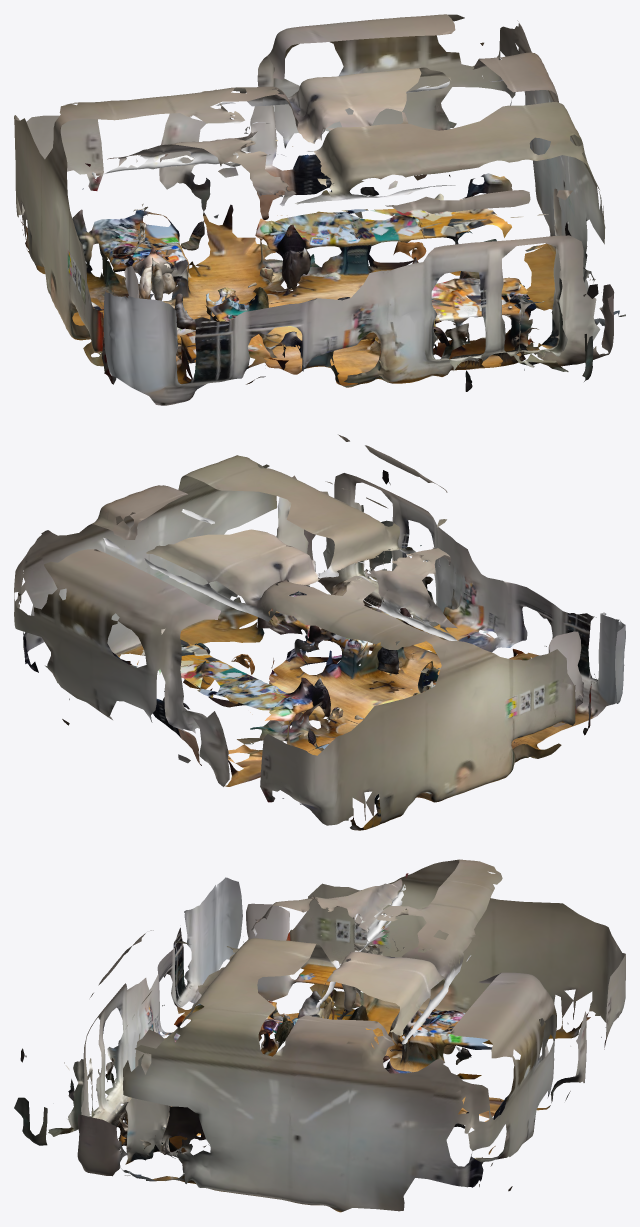
The model's file is Modelar-2022-Dec-15.obj.
3 renders of one model, top to bottom at view 1: azimuth 30°, elevation 25°; view 2: azimuth 150°, elevation 25°; view 3: azimuth 270°, elevation 25°, orthographic. The views are drawn at different scales.
Visible parts, largest first — view 1: object 1, _1, _2, _3; view 2: object 1, _1, _2, _3; view 3: object 1, _1, _2, _3.
Boxes of the visible parts, bbox=[...] form: object 1: bbox=[14, 14, 625, 405]; _1: bbox=[26, 24, 614, 384]; _2: bbox=[17, 55, 619, 384]; _3: bbox=[21, 75, 605, 375]; object 1: bbox=[14, 455, 625, 830]; _1: bbox=[14, 445, 596, 824]; _2: bbox=[62, 434, 594, 829]; _3: bbox=[25, 481, 621, 820]; object 1: bbox=[65, 859, 624, 1211]; _1: bbox=[14, 861, 625, 1211]; _2: bbox=[20, 873, 591, 1191]; _3: bbox=[64, 884, 605, 1212].
Size of the model in its own units: 11.48 by 3.87 by 12.17.
5 materials, 5 textured.
